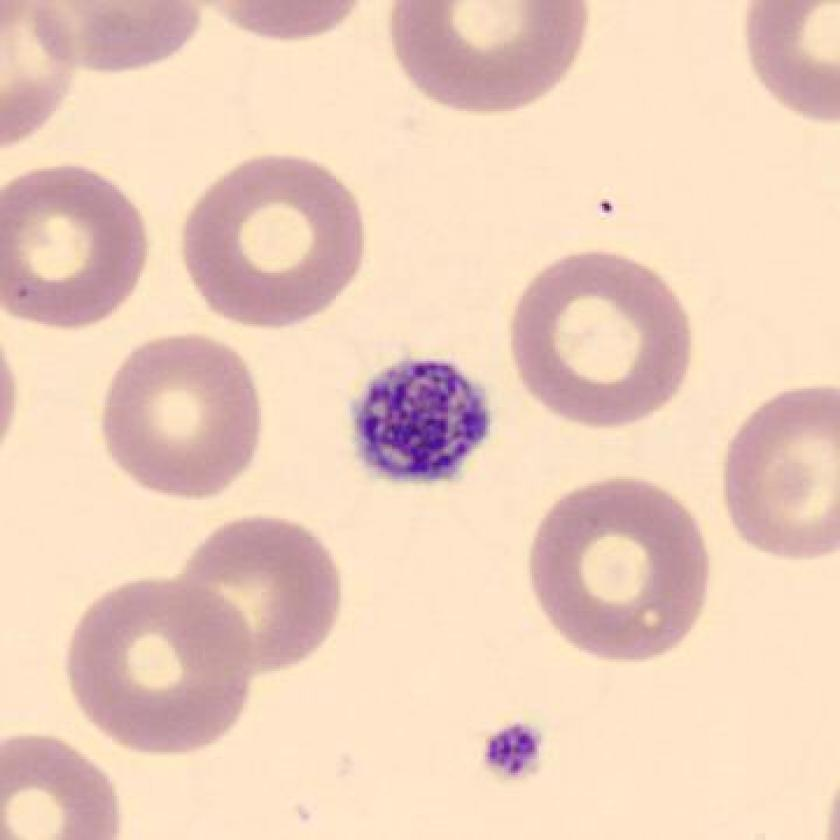platelets: (344, 353, 498, 501), (482, 707, 549, 795)
